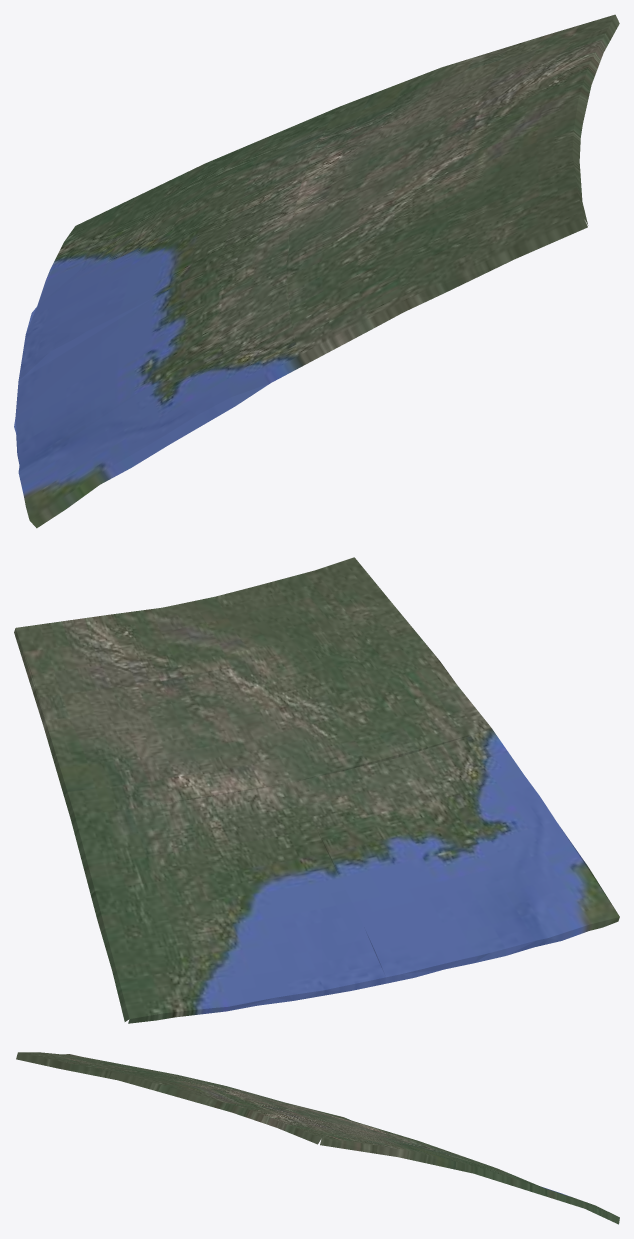
3 views of the same model, one above another, from view 1: azimuth 30°, elevation 25°; view 2: azimuth 150°, elevation 25°; view 3: azimuth 270°, elevation 25° (orthographic). The views are drawn at different scales.
Size of the model in its own units: 1565553 by 618694 by 1591772.
1 material, 1 textured.
